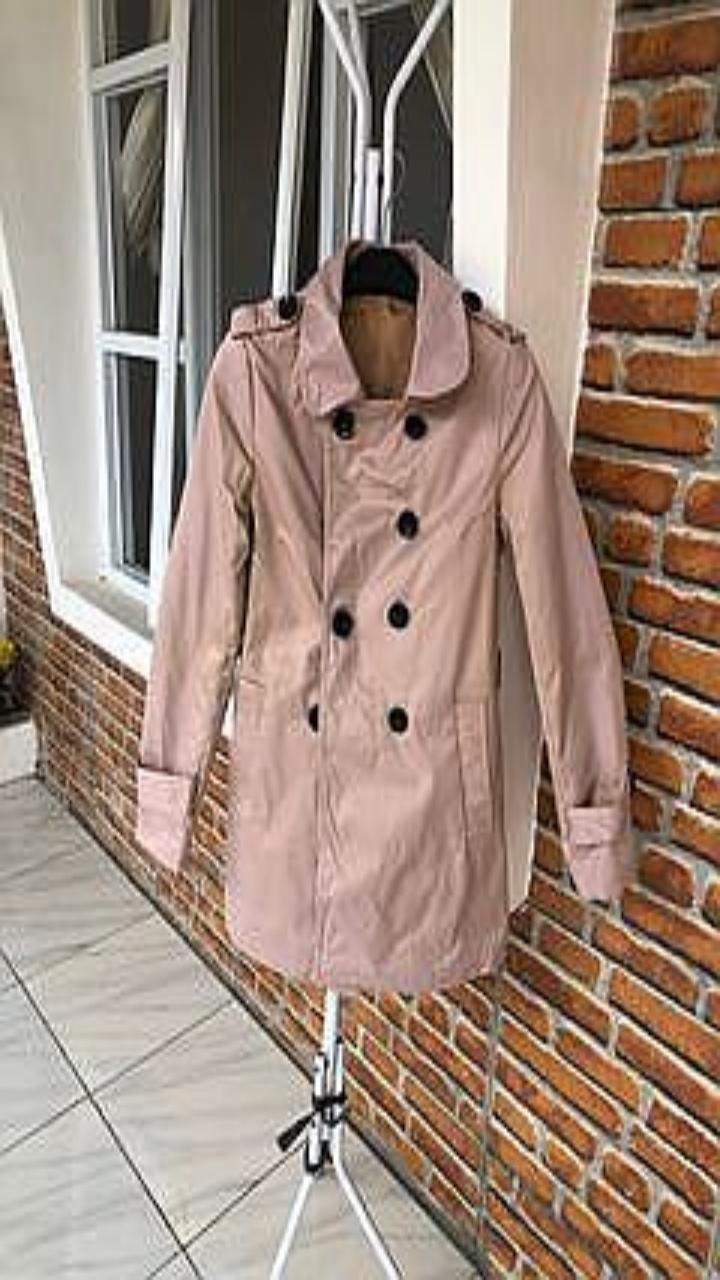Coat: (136, 239, 636, 992)
